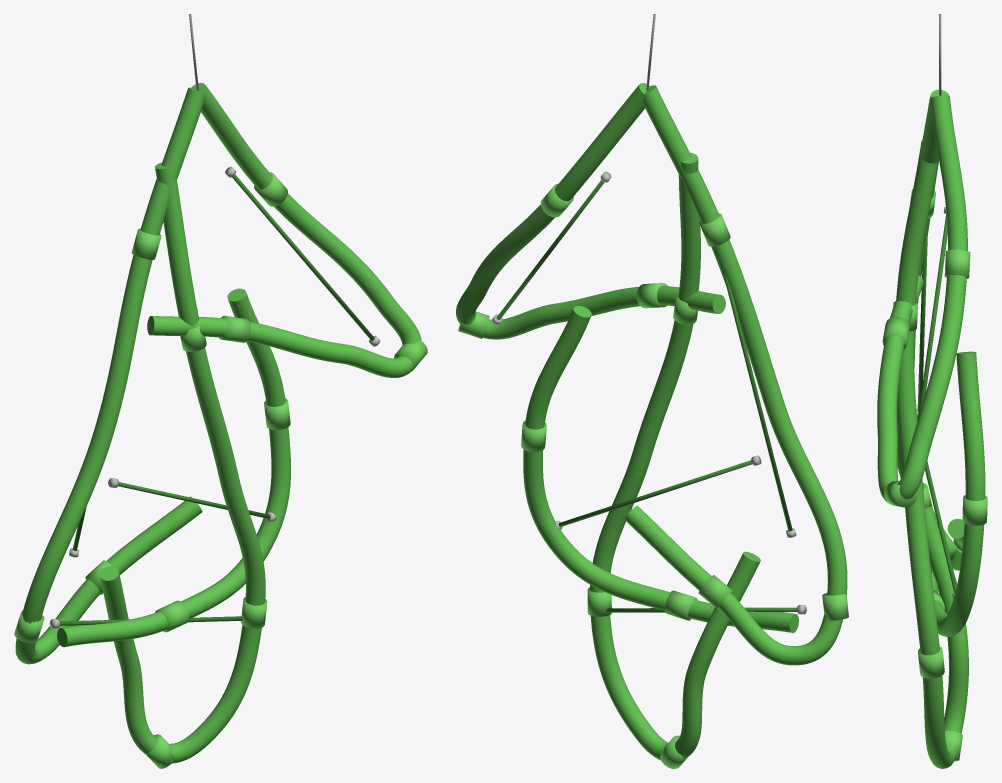
File: movil-verde.glb
3 renders of one model, left to right at view 1: azimuth 30°, elevation 25°; view 2: azimuth 150°, elevation 25°; view 3: azimuth 270°, elevation 25°, orthographic. The views are drawn at different scales.
Parts seen in each view (by area): view 1: GreenPipe_2, GreenPipe_0, GreenPipe_1, GreenPipe_3, Tension_1; view 2: GreenPipe_0, GreenPipe_2, GreenPipe_1, GreenPipe_3, Tension_0, Tension_2, Tension_1; view 3: GreenPipe_2, GreenPipe_1, GreenPipe_3, GreenPipe_0, Tension_1, Tension_0, Cuff_1_1, Tension_2, Cuff_3_1, Cuff_2_3, Cuff_1_5, Cuff_1_3 (+2 smaller).
Boxes of the visible parts, x1,y1,x2,y2 form: GreenPipe_2: (99,162,265,763); GreenPipe_0: (15,87,204,664); GreenPipe_1: (147,83,421,377); GreenPipe_3: (57,288,290,647); Tension_1: (232,174,374,340); GreenPipe_0: (624,85,847,665); GreenPipe_2: (590,152,760,760); GreenPipe_1: (456,83,725,339); GreenPipe_3: (523,306,798,632); Tension_0: (723,271,792,531); Tension_2: (558,460,752,526); Tension_1: (496,180,604,319); GreenPipe_2: (896,140,968,768); GreenPipe_1: (877,95,967,502); GreenPipe_3: (932,351,985,636); GreenPipe_0: (897,89,964,570); Tension_1: (917,213,947,419); Tension_0: (917,235,927,418); Cuff_1_1: (944,249,970,278); Tension_2: (917,419,956,592); Cuff_3_1: (962,495,987,525); Cuff_2_3: (918,646,944,678); Cuff_1_5: (882,316,910,349); Cuff_1_3: (884,481,917,507).
Size of the model in its own units: 1.07 by 1.92 by 0.253.
